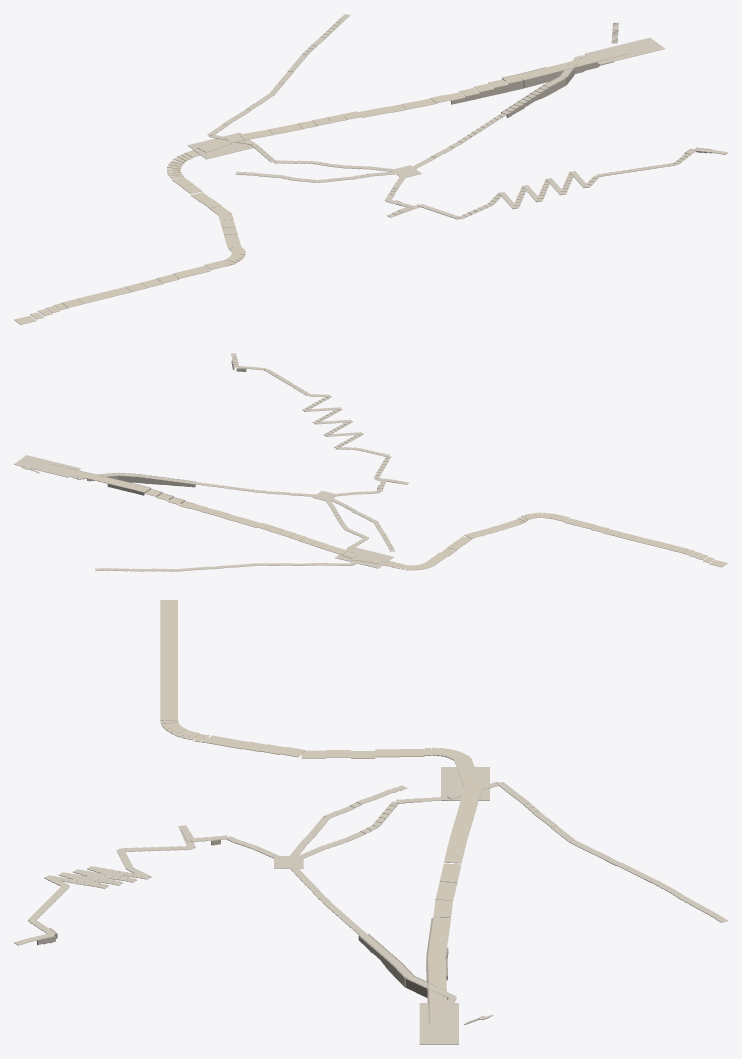
Rendered from site-grounds.glb.
3 views of the same model, one above another, from view 1: azimuth 30°, elevation 25°; view 2: azimuth 150°, elevation 25°; view 3: azimuth 270°, elevation 25° (orthographic). The views are drawn at different scales.
Parts seen in each view (by area): view 1: gravel, dirt, river stone; view 2: gravel, dirt, river stone; view 3: gravel, dirt, river stone.
Part boxes in pixels (bbox=[...]): gravel: bbox=[188, 14, 727, 219]; dirt: bbox=[14, 48, 627, 324]; river stone: bbox=[395, 53, 711, 205]; gravel: bbox=[14, 353, 408, 571]; dirt: bbox=[49, 464, 727, 570]; river stone: bbox=[50, 360, 379, 504]; gravel: bbox=[14, 767, 727, 1044]; dirt: bbox=[160, 600, 482, 1023]; river stone: bbox=[37, 839, 449, 1023].
Bounding box in the file's own units: 227 × 15.56 × 145.
